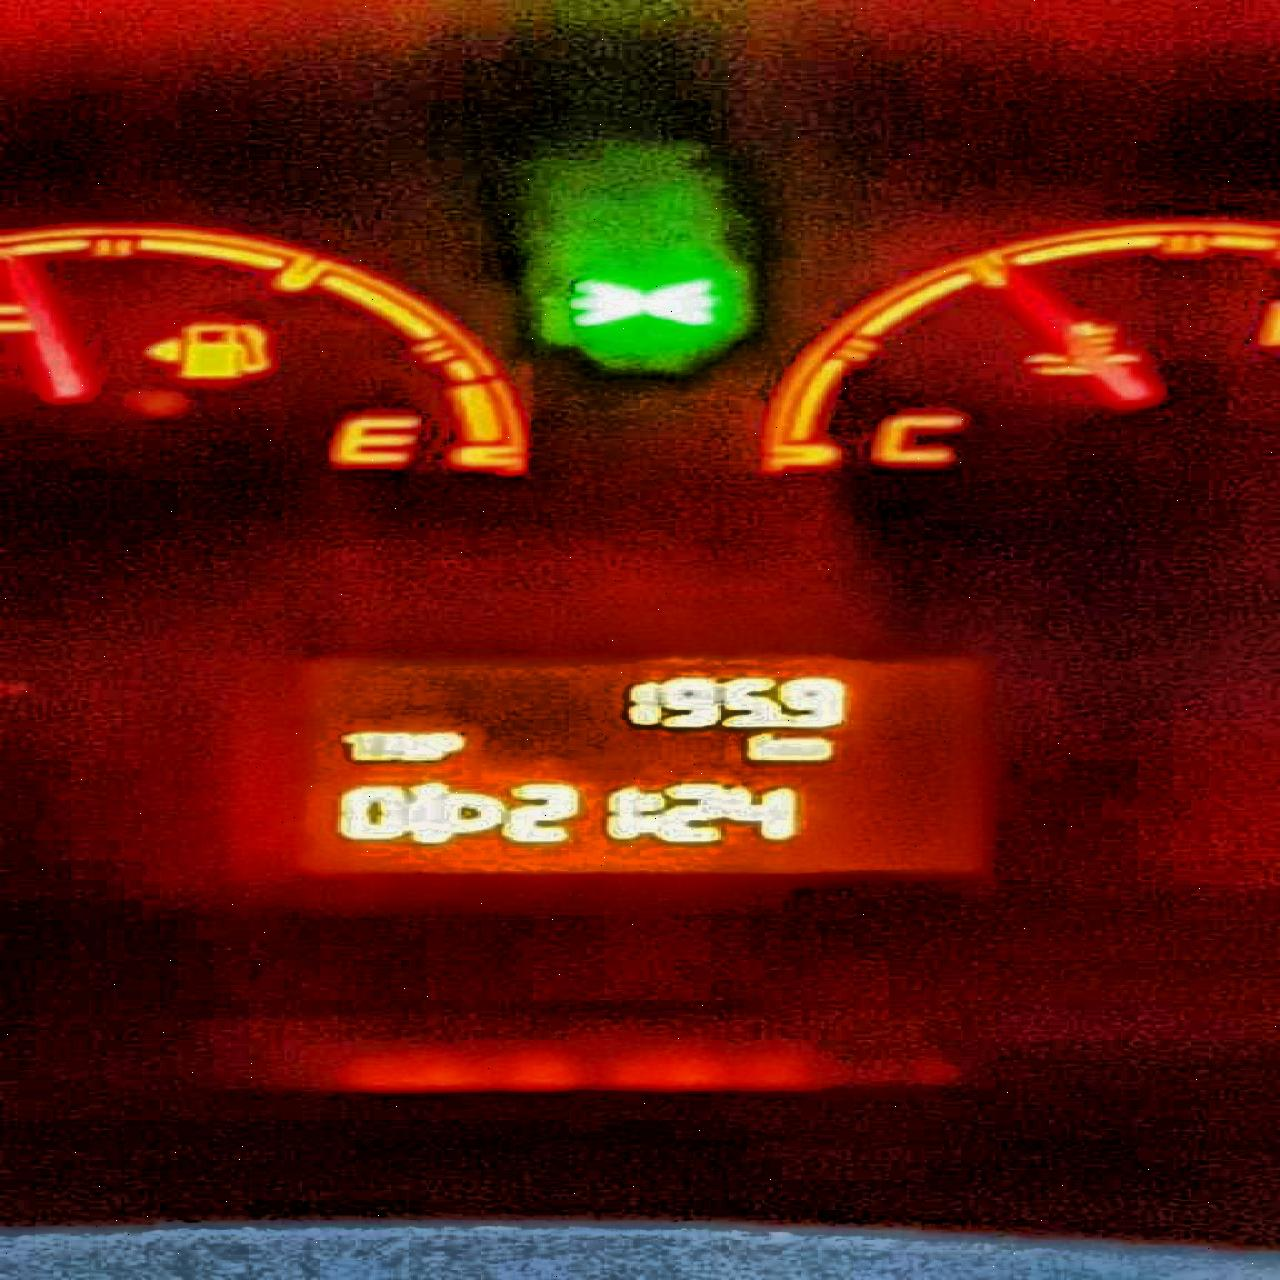-: (779, 713, 794, 730)
0: (338, 783, 407, 842)
1: (602, 779, 638, 845), (625, 674, 658, 729)
2: (502, 782, 576, 844), (665, 782, 724, 844)
4: (727, 784, 801, 842)
5: (720, 675, 779, 729)
9: (782, 674, 849, 730), (658, 675, 715, 730)
X: (782, 736, 831, 764), (424, 729, 464, 763), (742, 730, 782, 764), (640, 788, 665, 837), (342, 729, 374, 763), (376, 730, 402, 764), (402, 730, 422, 765)
odometer: (267, 641, 1020, 884)
